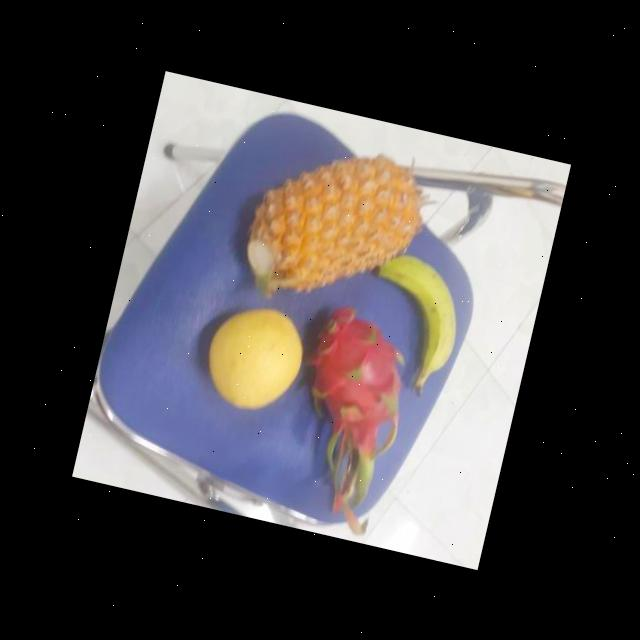banana: (352, 242, 472, 388)
guava: (194, 292, 310, 418)
pineapple: (237, 128, 428, 316)
pitaya: (284, 296, 421, 464)
